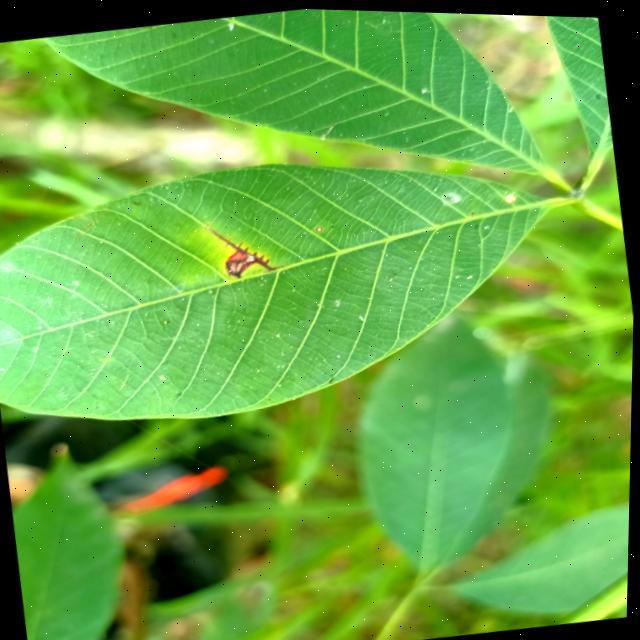Leaf-Blight: (211, 217, 287, 281)
